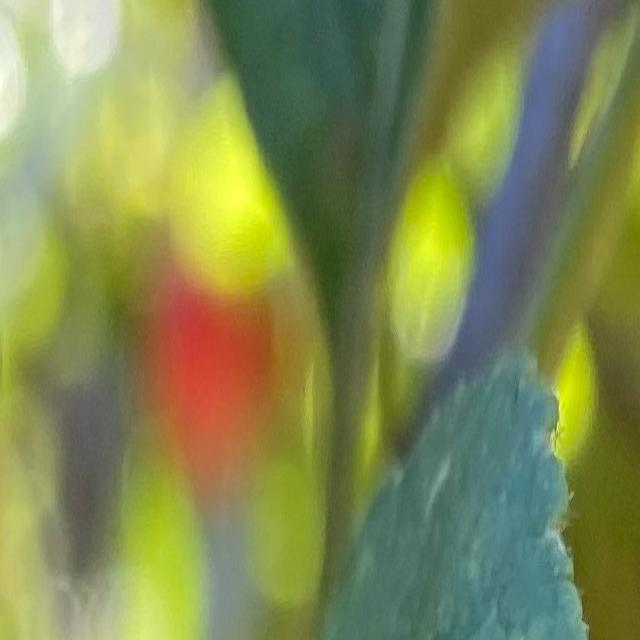100-_ripeness: (154, 244, 278, 461)
